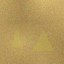structure: (32, 29, 53, 50), (11, 28, 23, 47)
